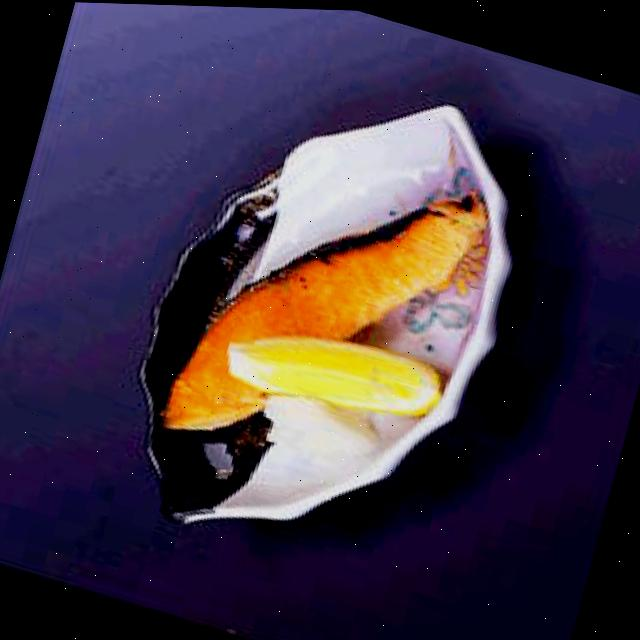熟制海鲜: (152, 108, 489, 518)
